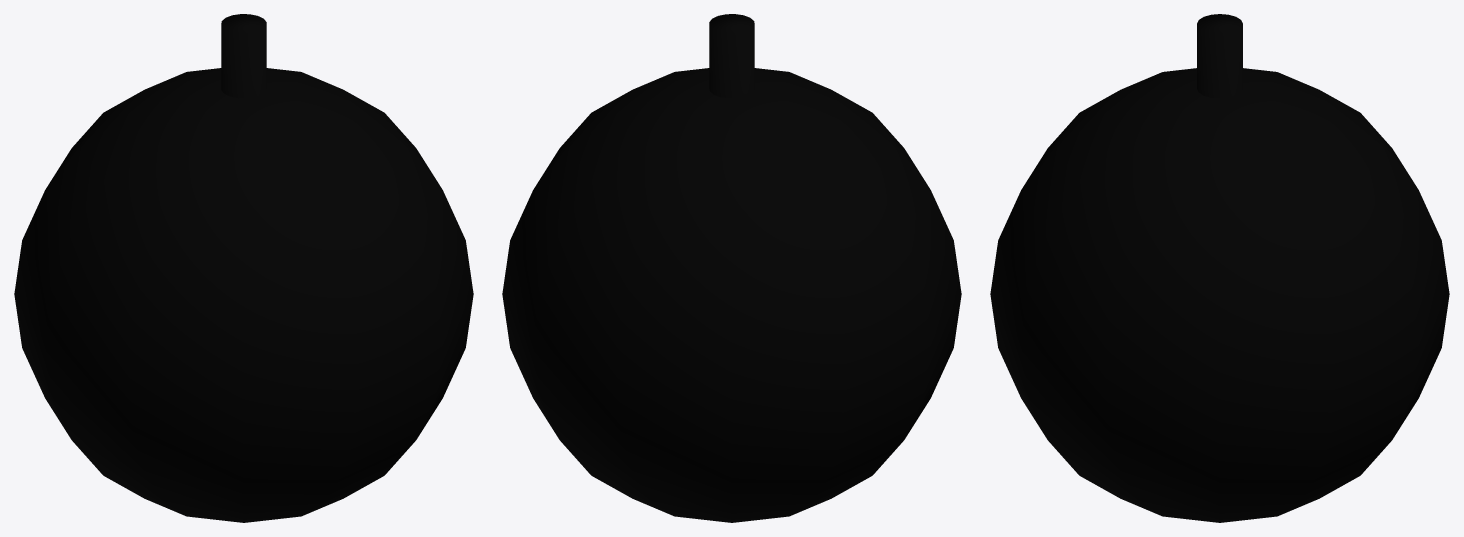
The model's file is Bomb.gltf.
The picture shows the model from 3 angles, left to right: view 1: azimuth 30°, elevation 25°; view 2: azimuth 150°, elevation 25°; view 3: azimuth 270°, elevation 25°; orthographic projection.
Parts seen in each view (by area): view 1: Sphere; view 2: Sphere; view 3: Sphere.
Boxes of the visible parts, bbox=[...] form: Sphere: bbox=[14, 14, 473, 522]; Sphere: bbox=[502, 14, 961, 522]; Sphere: bbox=[990, 14, 1449, 522].
Size of the model in its own units: 2 by 2.3 by 2.
1 material, 1 textured.
